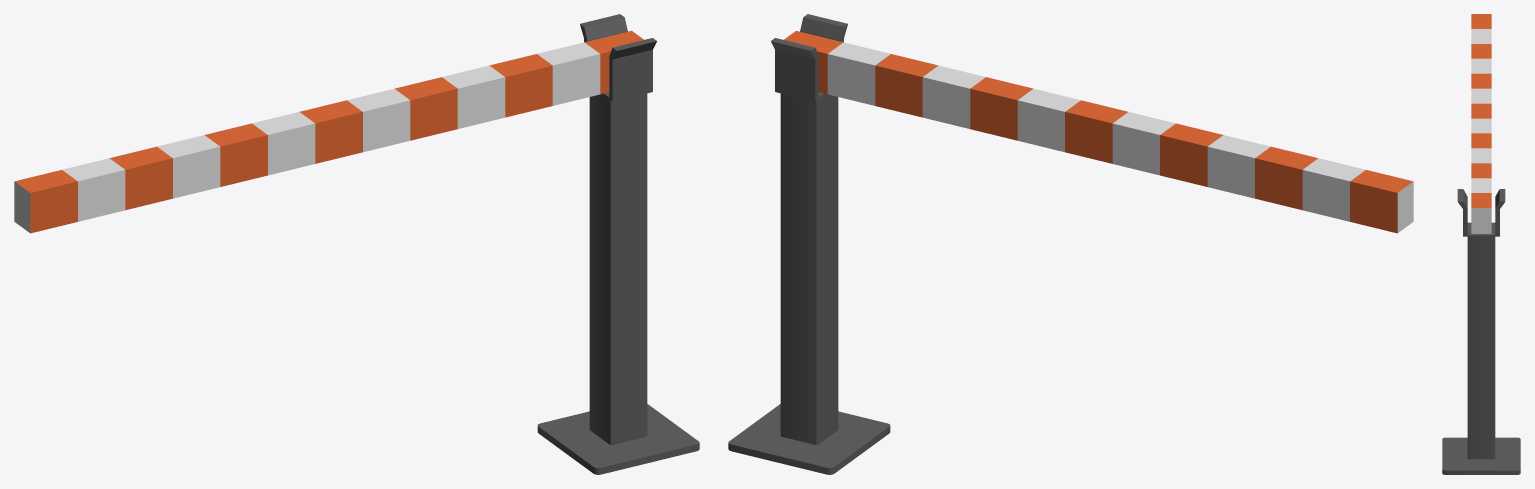
The model's file is cikis-bariyeri.fbx.
3 renders of one model, left to right at view 1: azimuth 30°, elevation 25°; view 2: azimuth 150°, elevation 25°; view 3: azimuth 270°, elevation 25°, orthographic. The views are drawn at different scales.
Parts seen in each view (by area): view 1: Cube.033, Cube.032; view 2: Cube.033, Cube.032; view 3: Cube.032, Cube.033.
Boxes of the visible parts, bbox=[...] form: Cube.033: bbox=[14, 30, 643, 233]; Cube.032: bbox=[537, 14, 699, 474]; Cube.033: bbox=[784, 30, 1413, 233]; Cube.032: bbox=[728, 14, 890, 474]; Cube.032: bbox=[1442, 189, 1520, 474]; Cube.033: bbox=[1471, 14, 1491, 233].
Bounding box in the file's own units: 4.57 × 2.75 × 0.7401.
